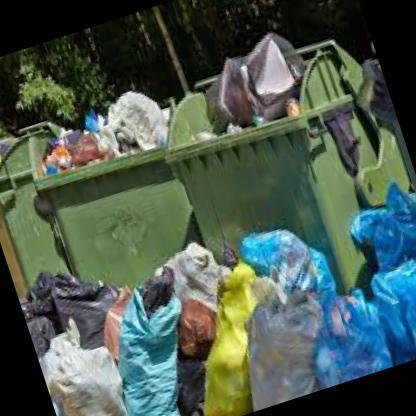Garbage: (103, 221, 368, 415), (16, 242, 210, 415), (310, 269, 415, 383), (349, 191, 415, 364)
